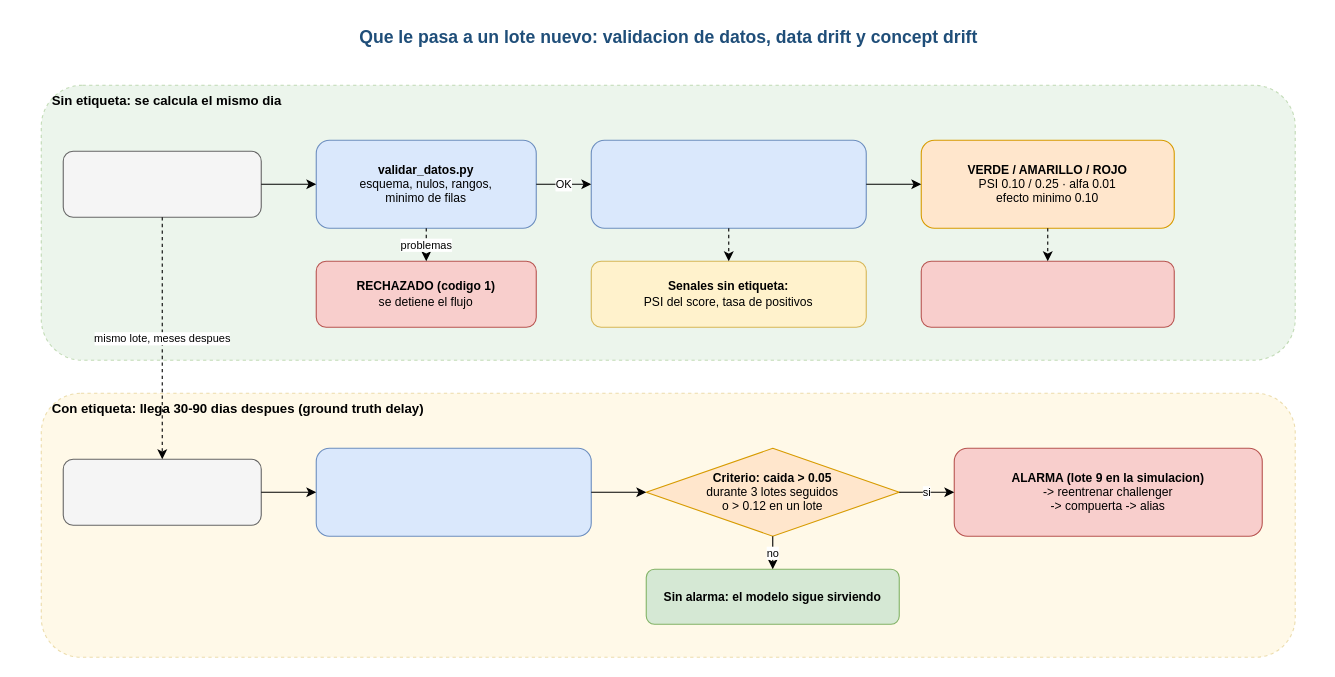
The diagram is 1335 pixels wide and 677 high, and some of its shapes have lost their labels. Each missing label, with the centre of its shape:
"concept_drift.py roc_auc por lote vs referencia 0.780 umbral 0.730" belongs at point (453, 491).
"data_drift.py numericas: KS + PSI categoricas/ordinales: chi2 + PSI" belongs at point (728, 183).
"Etiquetas reales (mora del mes siguiente)" belongs at point (161, 491).
"Lote mensual (500-1.500 clientes)" belongs at point (161, 183).
"ROJO: investigar y vigilar (no reentrena solo)" belongs at point (1047, 293).
